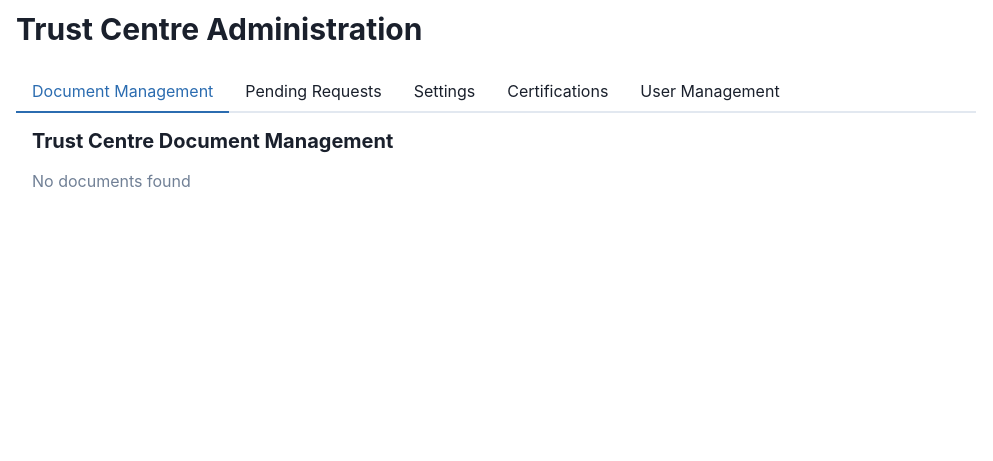
Test: TrustCenterAdminPage › should load users when User Management tab is selected
Note: Click on User Management tab (use getByRole to find the tab button)
Click the tab "User Management" at (710, 92), box [624, 71, 796, 113]
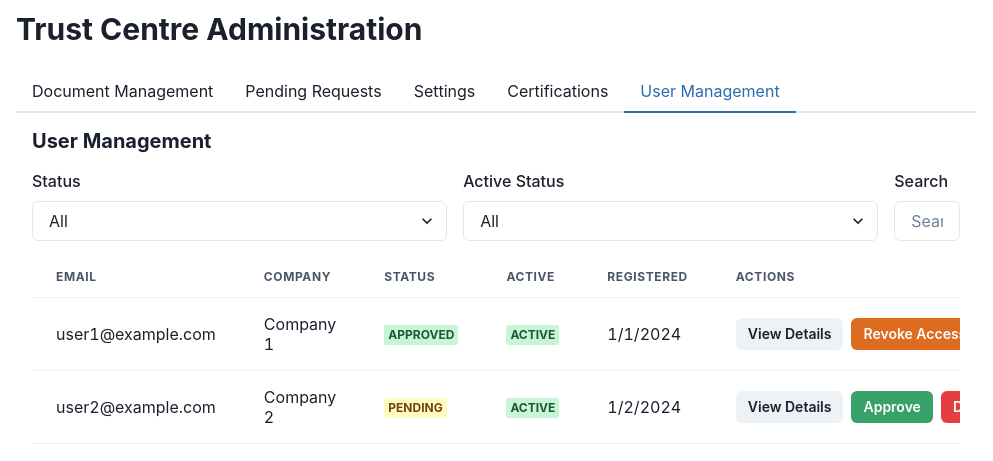
Check: the text "user1@example.com" is shown, box [32, 298, 240, 370]
Check: the text "user2@example.com" is shown, box [32, 370, 240, 444]
